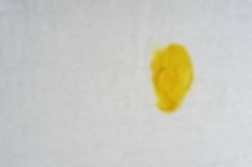mustard: (148, 41, 195, 115)
